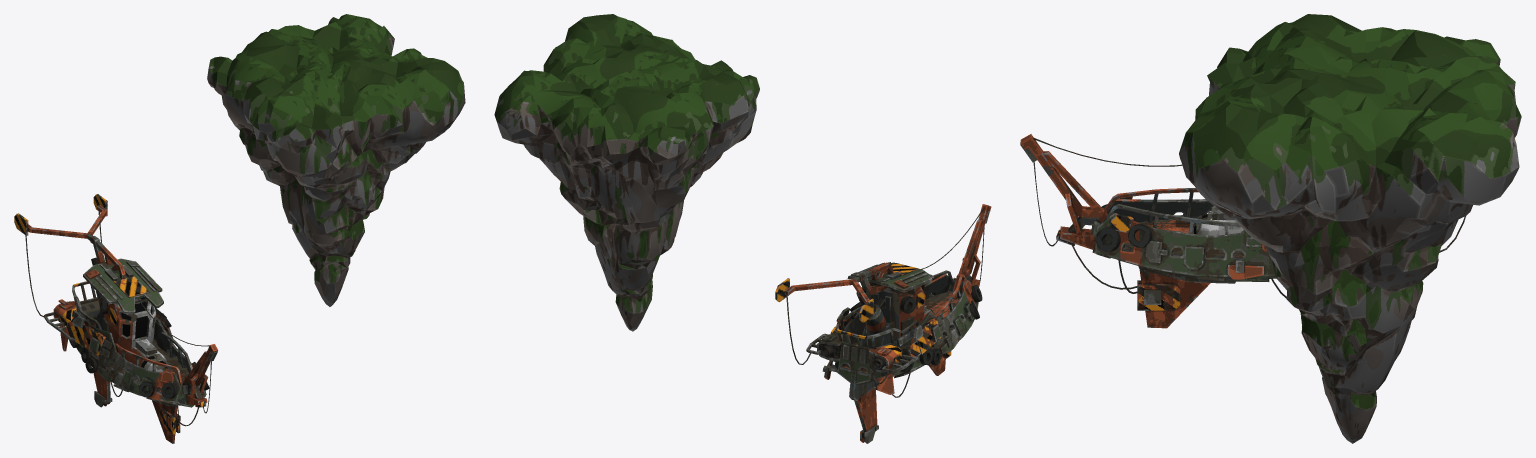
File: skyshipTest.FBX
The picture shows the model from 3 angles, left to right: view 1: azimuth 30°, elevation 25°; view 2: azimuth 150°, elevation 25°; view 3: azimuth 270°, elevation 25°; orthographic projection. The views are drawn at different scales.
Parts seen in each view (by area): view 1: Rock, Box005; view 2: Rock, Box005; view 3: Rock, Box005.
Part boxes in pixels (x1,y1,x2,y2): Rock: (207,14,465,306); Box005: (14,194,218,443); Rock: (494,14,759,331); Box005: (775,204,991,443); Rock: (1179,14,1521,443); Box005: (1020,134,1465,328).
Size of the model in its own units: 53.91 by 42.26 by 42.75.
